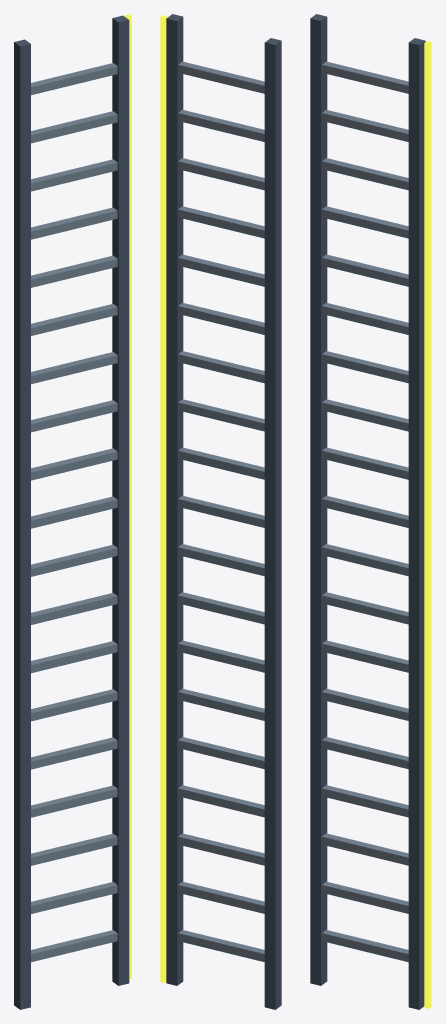
File: Mono_Ladder.fbx
The picture shows the model from 3 angles, left to right: view 1: azimuth 30°, elevation 25°; view 2: azimuth 150°, elevation 25°; view 3: azimuth 330°, elevation 25°; orthographic projection.
Visible parts, largest first — view 1: Mono_Ladder; view 2: Mono_Ladder; view 3: Mono_Ladder.
Boxes of the visible parts, left/top/right/bottom form: Mono_Ladder: left=14, top=14, right=131, bottom=1009; Mono_Ladder: left=160, top=14, right=281, bottom=1009; Mono_Ladder: left=310, top=14, right=431, bottom=1009.
Size of the model in its own units: 0.75 by 0.07 by 6.
